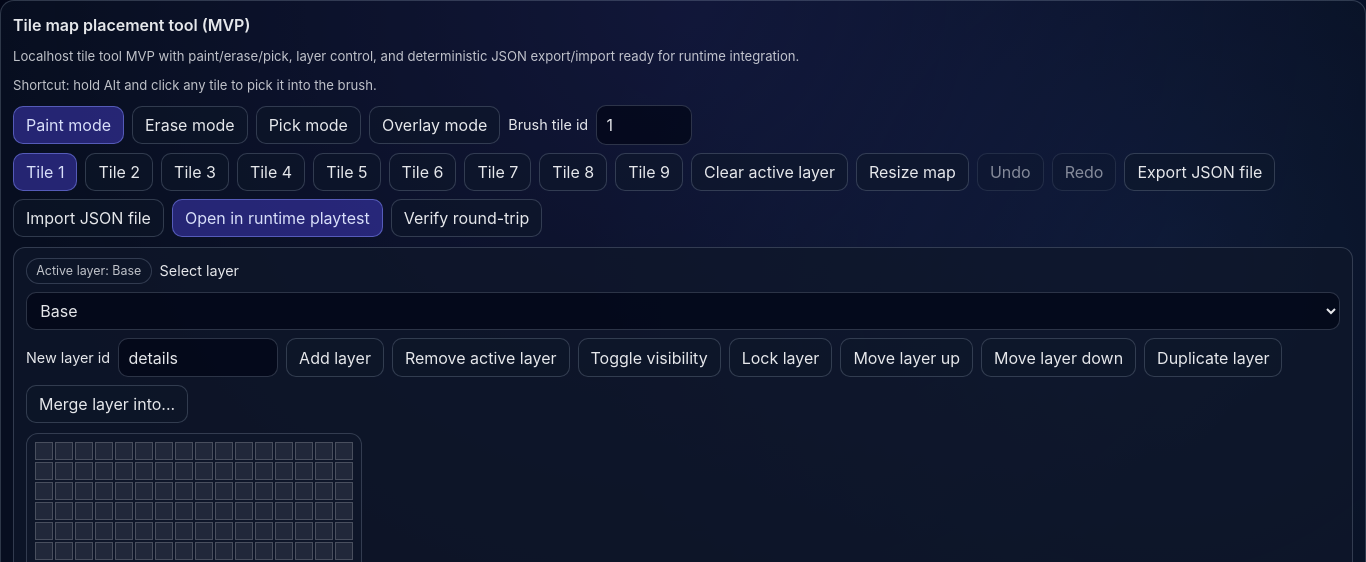
Test case: TileMapPlacementToolExample › allows selecting brush tile from quick-select buttons
The width and height of the screenshot is (1366, 562).
Click the button "Tile 7". click: [498, 172]
box: top-left (464, 153), bottom-right (531, 191)
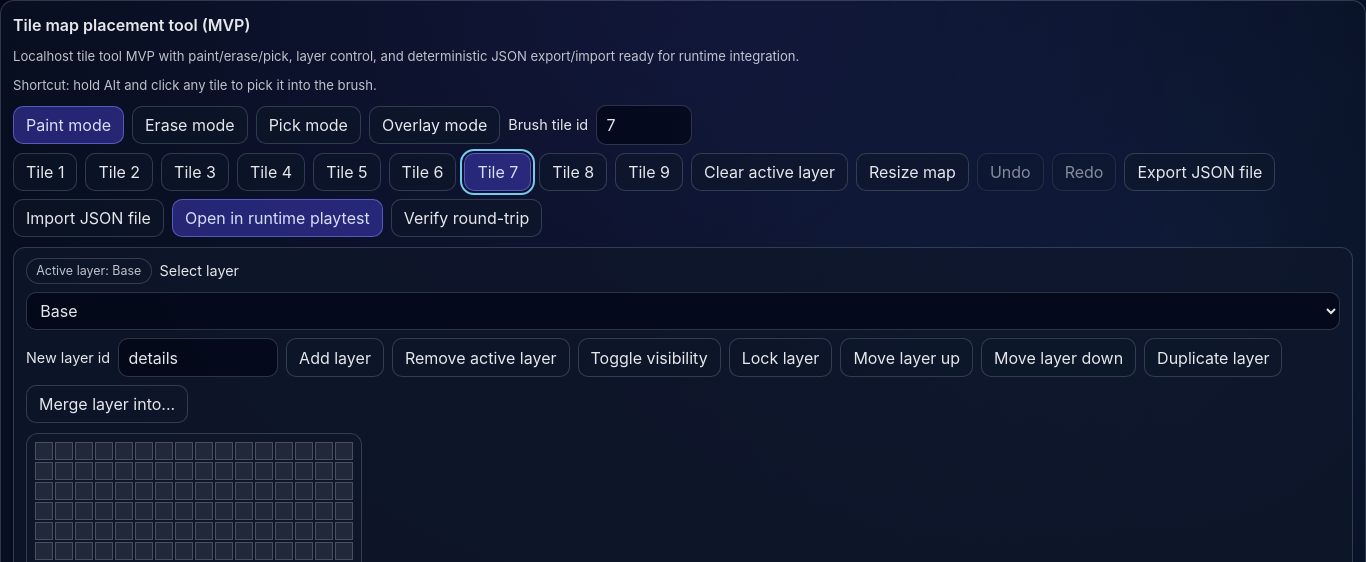
Result: the number field labelled "Brush tile id" holds "7" at top-left (596, 105), bottom-right (692, 145)
Click the button named "Tile (0, 0)". click: [44, 451]
box: top-left (35, 442), bottom-right (53, 460)
(page scrolled)
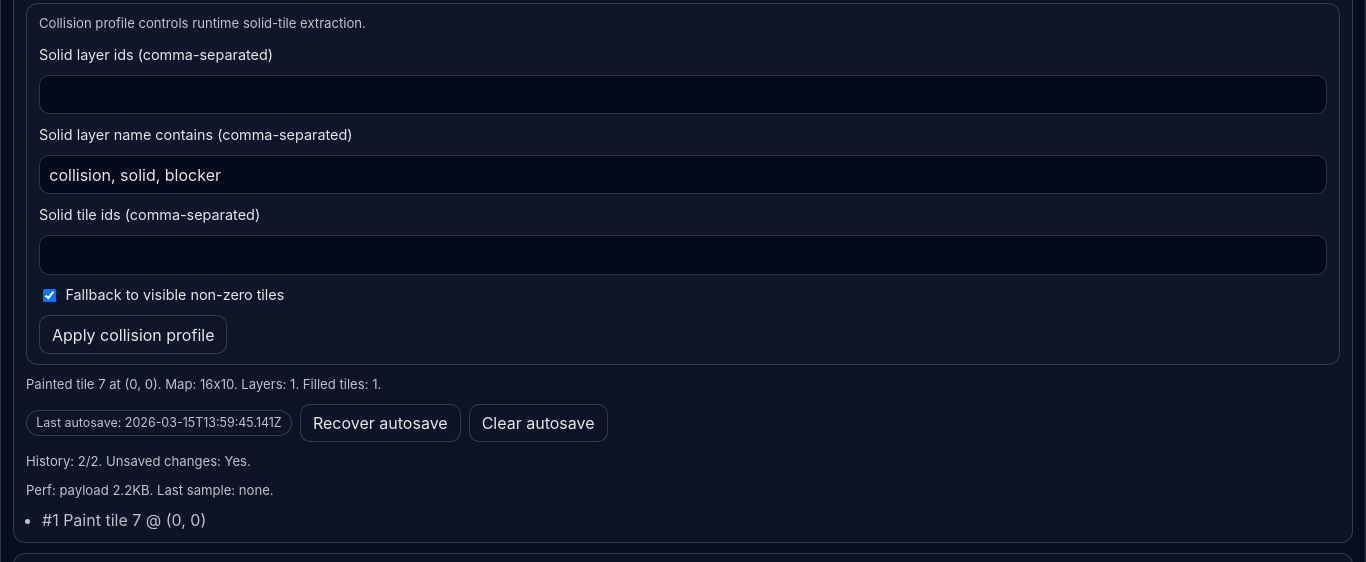
Result: the text "Painted tile 7 at (0, 0)." is shown at top-left (26, 376), bottom-right (162, 392)
